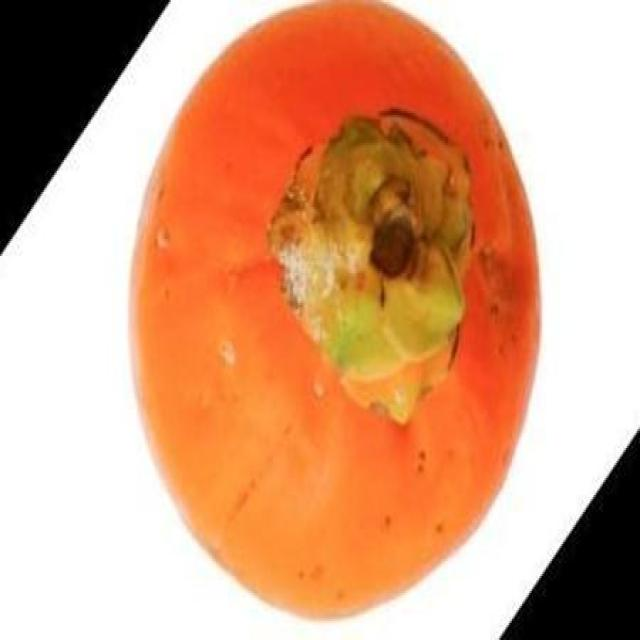good: (127, 0, 543, 623)
